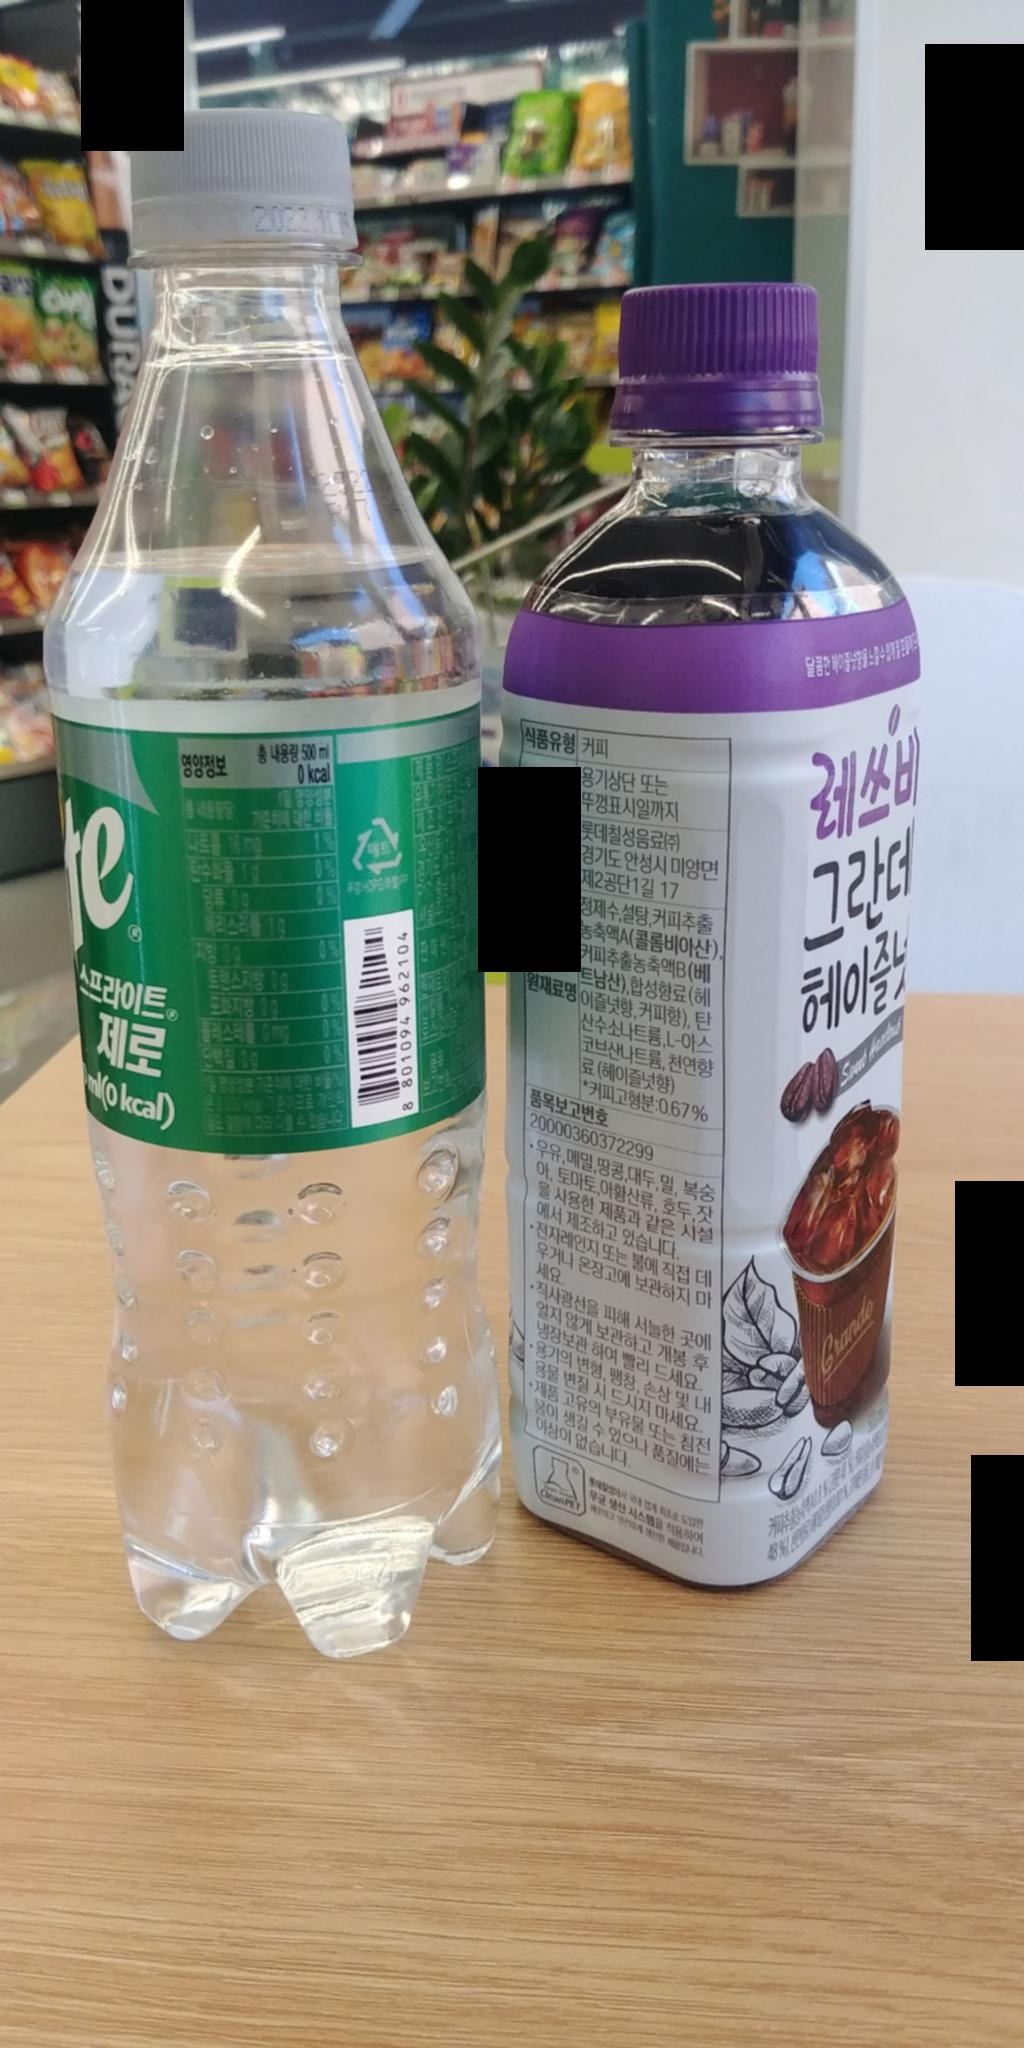letsbe_grande_hazelnut: (495, 256, 927, 1612)
sprite_zero: (37, 94, 508, 1686)
